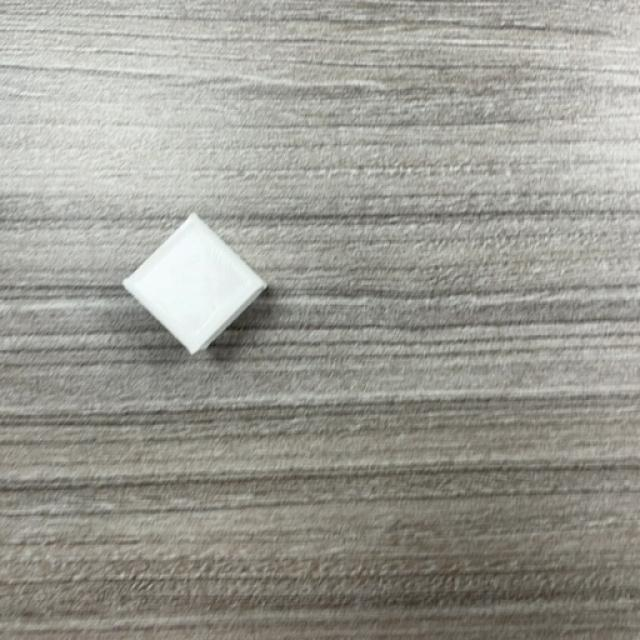Blanco: (121, 214, 268, 356)
